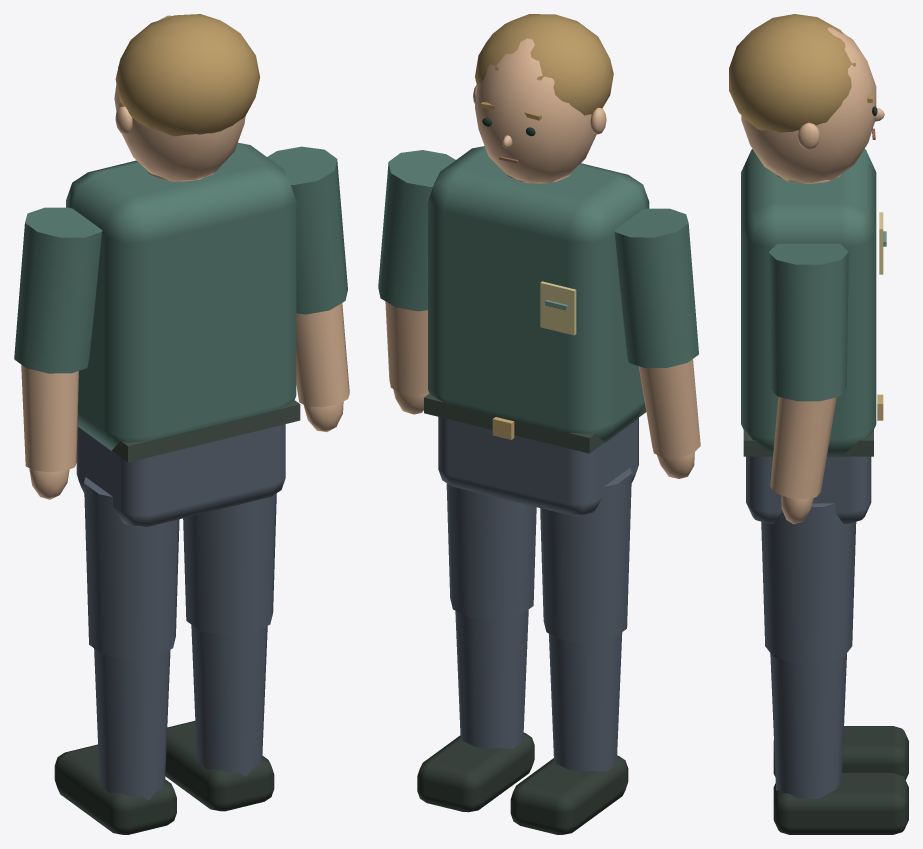
The model's file is scout-09.glb.
The picture shows the model from 3 angles, left to right: view 1: azimuth 30°, elevation 25°; view 2: azimuth 150°, elevation 25°; view 3: azimuth 270°, elevation 25°; orthographic projection. The views are drawn at different scales.
Parts seen in each view (by area): view 1: Scout character 9, left-upper-arm, right-upper-arm; view 2: Scout character 9, left-upper-arm, right-upper-arm; view 3: Scout character 9, right-upper-arm.
Part boxes in pixels (x1=…): Scout character 9: x1=54, y1=14, x2=300, y2=834; left-upper-arm: x1=14, y1=207, x2=102, y2=499; right-upper-arm: x1=267, y1=146, x2=349, y2=432; Scout character 9: x1=417, y1=14, x2=649, y2=834; left-upper-arm: x1=614, y1=208, x2=700, y2=478; right-upper-arm: x1=378, y1=150, x2=455, y2=414; Scout character 9: x1=729, y1=14, x2=908, y2=834; right-upper-arm: x1=768, y1=243, x2=848, y2=523.
Size of the model in its own units: 0.7284 by 1.72 by 0.359.
